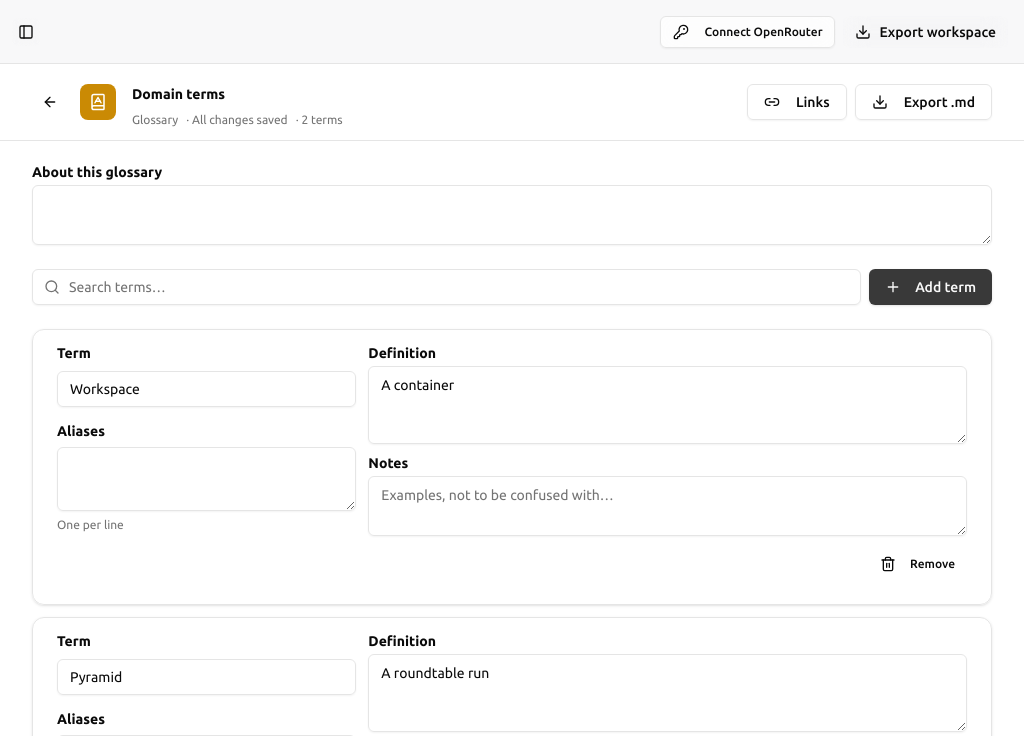
Scenario: workspace apps render › glossary editor filters terms
Step 1. Type "pyr" into the field labelled "Search terms" → (447, 287), box [32,269,861,305]
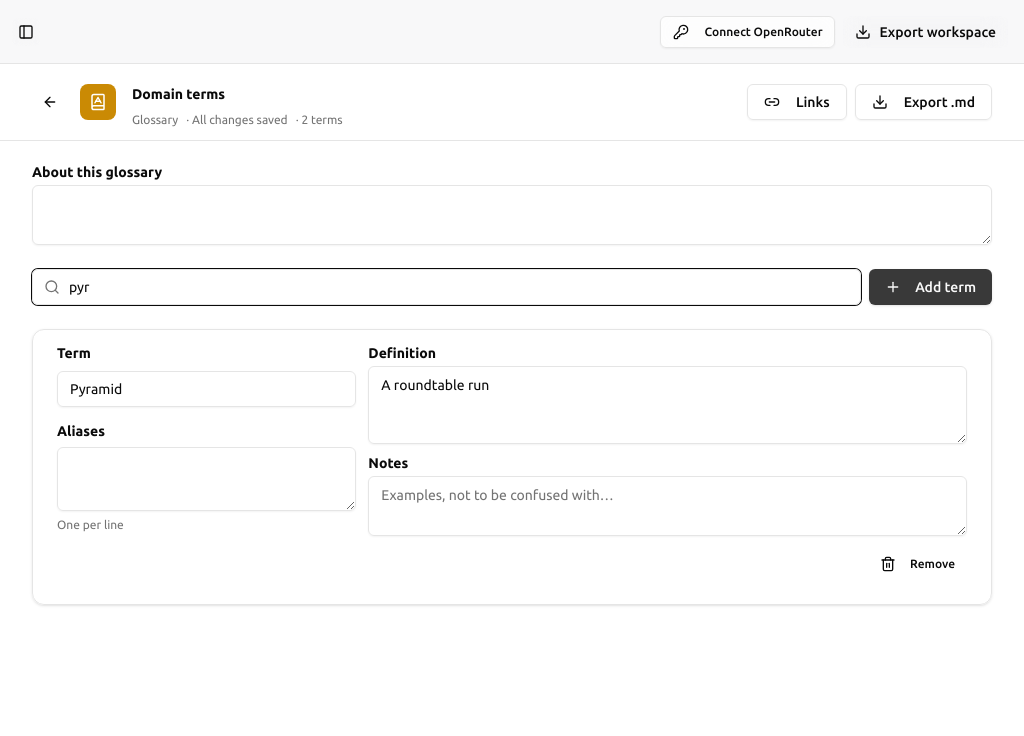
Check: the number of elements with test id "glossary-term" is 1, box [32,329,992,605]
